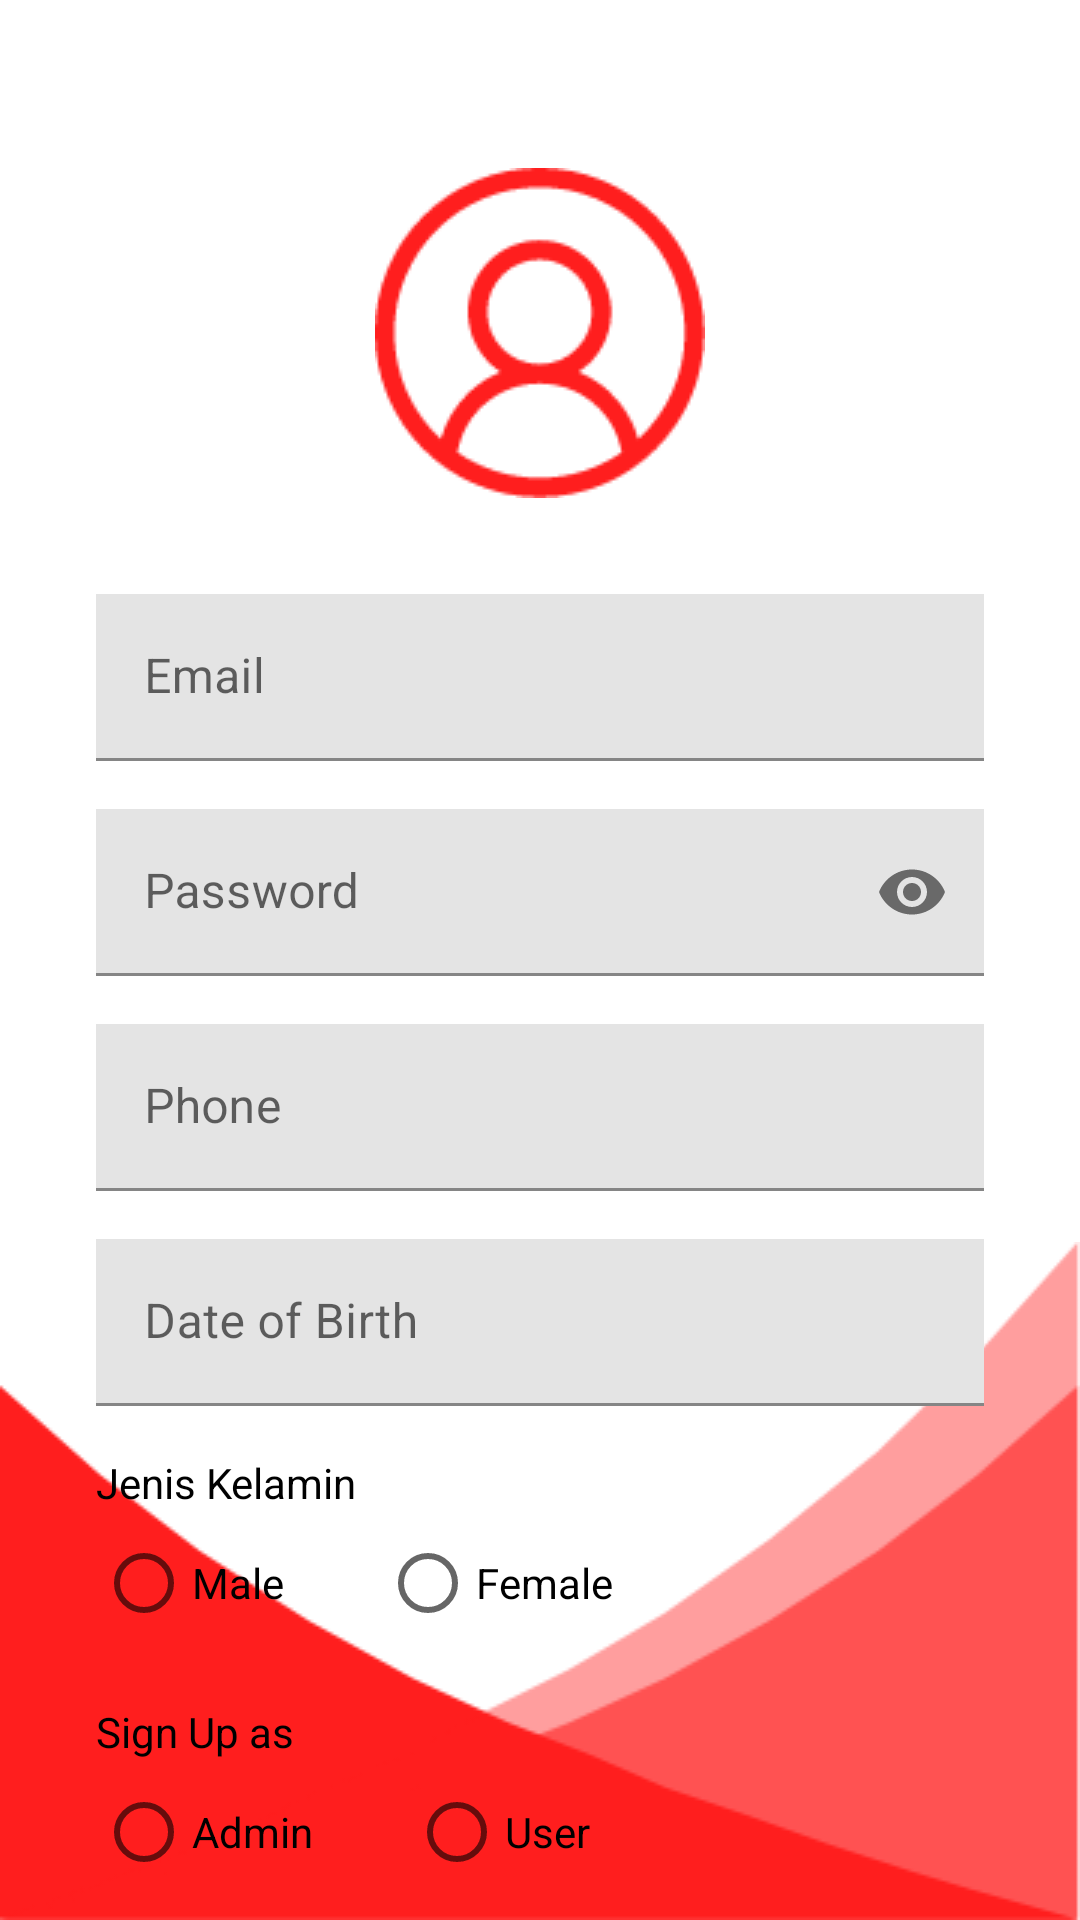

Screen size 1080 x 1920. Icon name, then its center in pixels as point (x, y):
user: point (540, 333)
